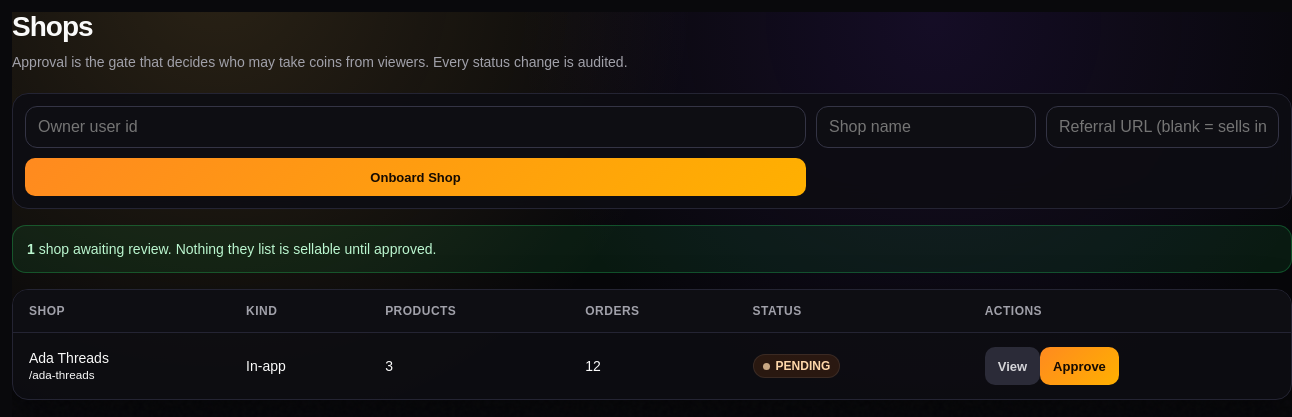
ShopsPage › status-change failure surfaces the API error
The width and height of the screenshot is (1292, 417).
expect the text "Ada Threads" is shown: met, box top-left (29, 350), bottom-right (109, 366)
Click the button "Approve" at (1079, 366), box top-left (1040, 348), bottom-right (1119, 386)
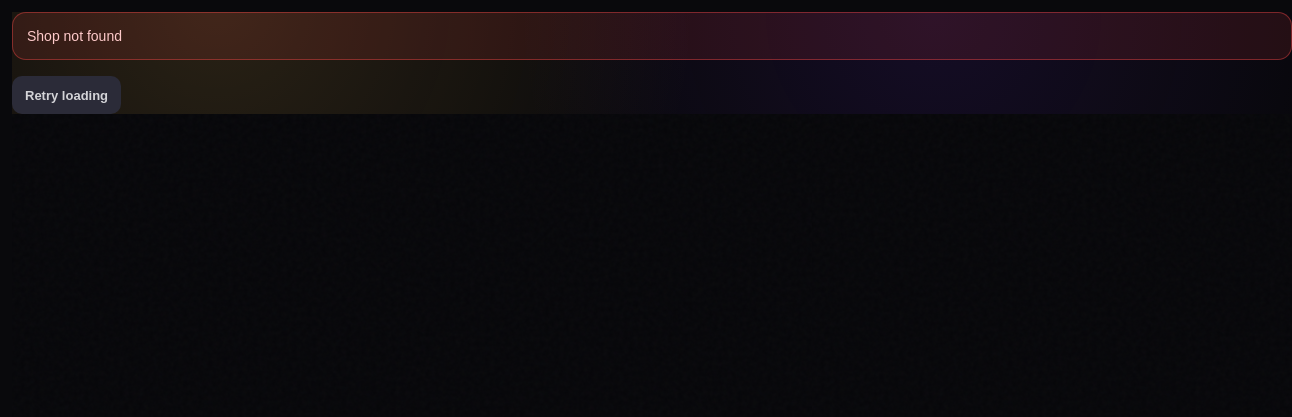
expect the text "Shop not found" is shown: met, box top-left (12, 12), bottom-right (1291, 60)
